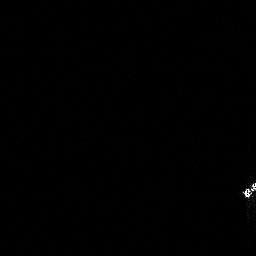ship: (238, 179, 256, 201)
